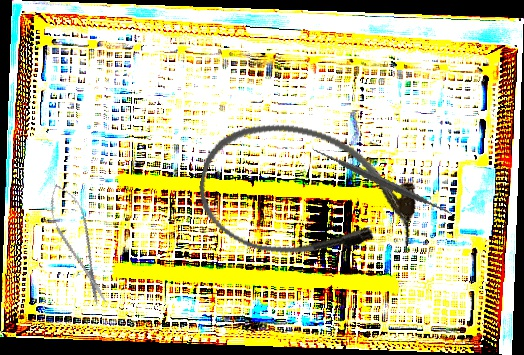Cannula: (188, 108, 428, 282)
Micro Scissor: (40, 178, 117, 310)
Spatula Surgical: (310, 108, 455, 255)
